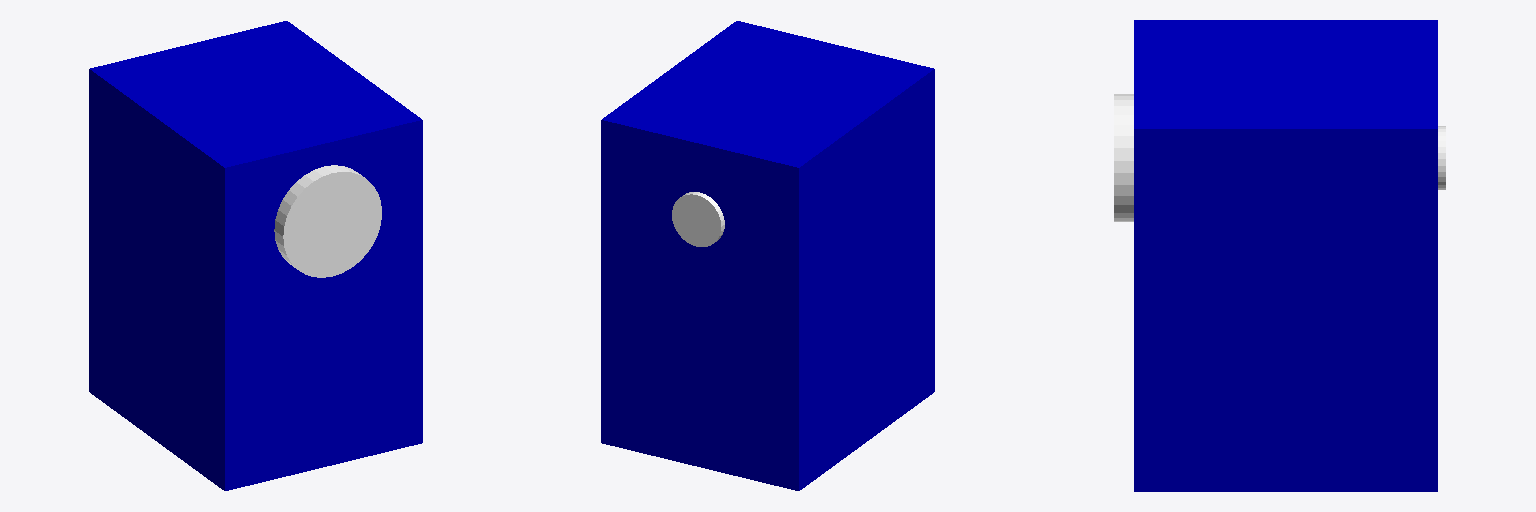
The robot description file, URDF, robot "dynamixel_arm":
<?xml version="1.0"?>
<robot name="dynamixel_arm">
  <link name="base_link">
    <visual>
        <geometry>
          <box size=".032 .038 .050"/>
      </geometry>
      <material name="blue">
        <color rgba="0 0 .8 1"/>
      </material>
    <origin xyz=".019 .016 .025"/>
    </visual>
  </link>
  
  <link name="link1_spindle">
    <visual>
      <geometry>
        <cylinder length=".04" radius=".004"/>
      </geometry>
      <material name="white">
        <color rgba="1 1 1 1"/>
      </material>
    </visual>
  </link>
 
  <joint name="base_to_spindle" type="fixed">
    <parent link="base_link"/>
    <child link="link1_spindle"/>
    <origin rpy="1.57075 0 0" xyz="0.019 .016 .0385"/>
  </joint>
 
  <link name="link_1">
    <visual>
      <geometry>
        <cylinder length=".003" radius=".008"/>
      </geometry>
      <material name="white"/>
    </visual>
  </link>
    
  <joint name="spindle_to_joint1" type="revolute">
    <parent link="link1_spindle"/>
    <axis xyz="0 0 1"/>
    <limit effort="1000.0" lower="-1.57" upper="1.57" velocity="1.00"/>
    <child link="link_1"/>
    <origin xyz="0 0 0.020"/>
  </joint> 

</robot>

--- Facts derived from the render (not from the file) ---
The picture shows the robot from 3 angles, left to right: view 1: azimuth 30°, elevation 25°; view 2: azimuth 150°, elevation 25°; view 3: azimuth 270°, elevation 25°; orthographic projection.
Robot: dynamixel_arm — 3 links, 2 joints (1 revolute, 1 fixed); root link base_link; default pose: all joints at 0.
Links seen in each view (by area): view 1: base_link, link_1; view 2: base_link, link1_spindle; view 3: base_link, link_1.
Boxes of the visible links, x1,y1,x2,y2 form: base_link: (89,21,422,490); link_1: (274,165,381,277); base_link: (601,21,934,490); link1_spindle: (672,192,724,246); base_link: (1134,20,1437,491); link_1: (1114,94,1133,221).
Size in the robot's own frame: 0.032 by 0.0415 by 0.05 metres.
Geometry: primitives only (box / cylinder / sphere), no mesh files.